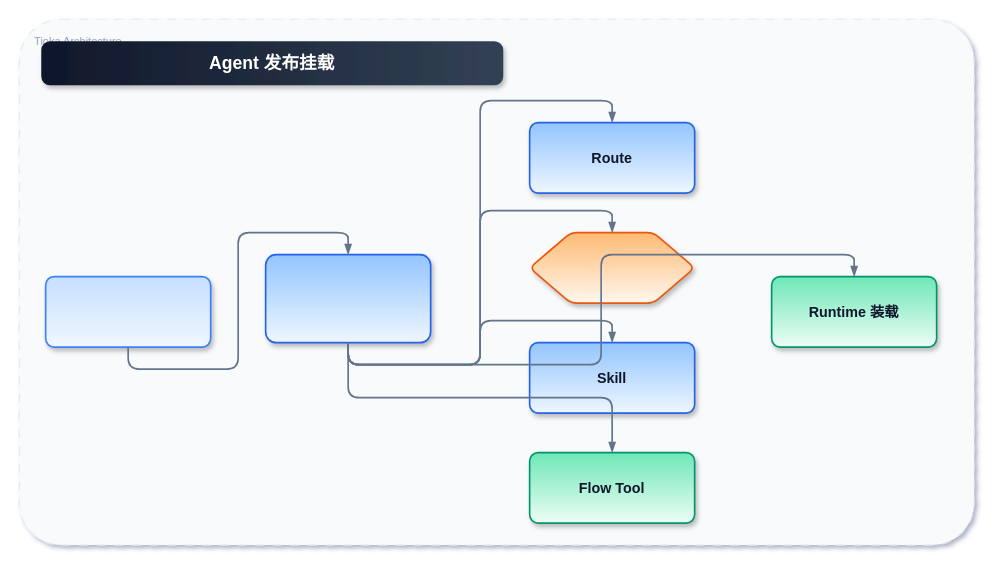
The diagram is 1000 pixels wide and 571 high, and some of its shapes have lost their labels. Here are the shapes that lost their labels. From the top down, the centre of each, then its label:
pixel 613 269: MCP
pixel 129 313: AgentDraft
pixel 349 300: AgentVersion 快照哈希
